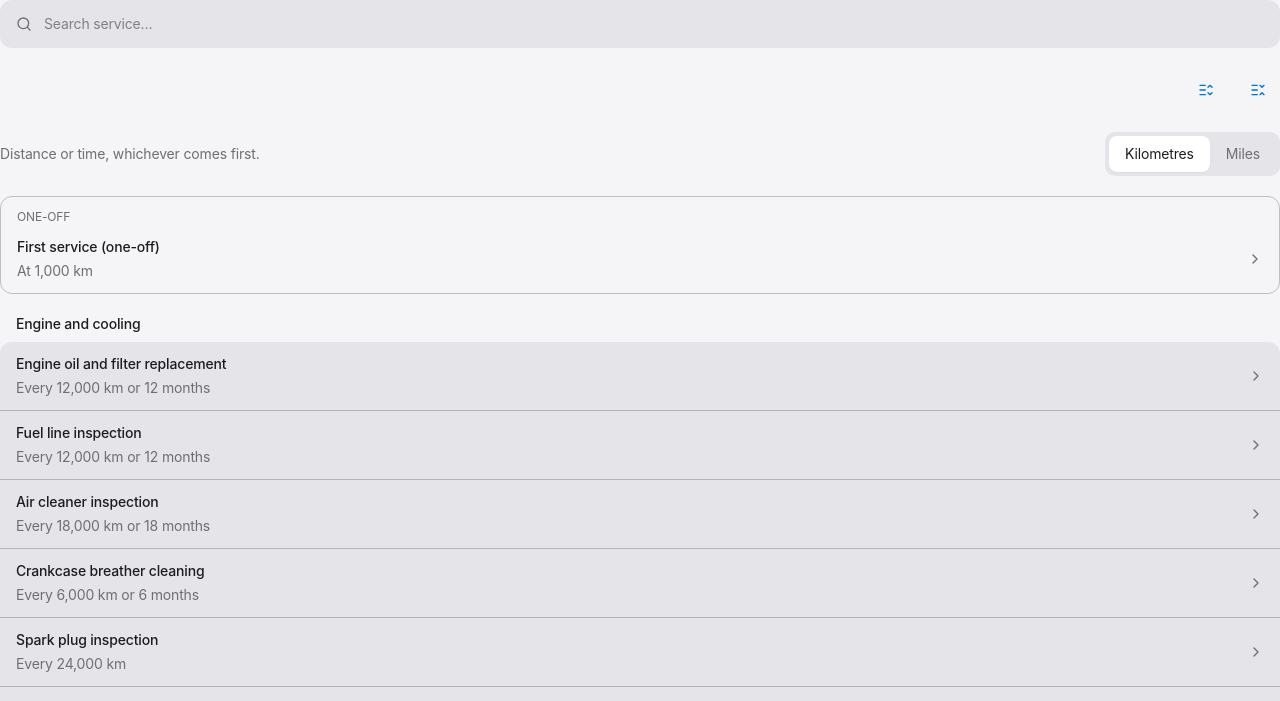
it: CB1000R reference › finds service details and retains fluids, torques and one-off timing
The width and height of the screenshot is (1280, 701).
Step 1. Type "oil and filter replacement" into the search field → (654, 24), box [44, 0, 1264, 48]
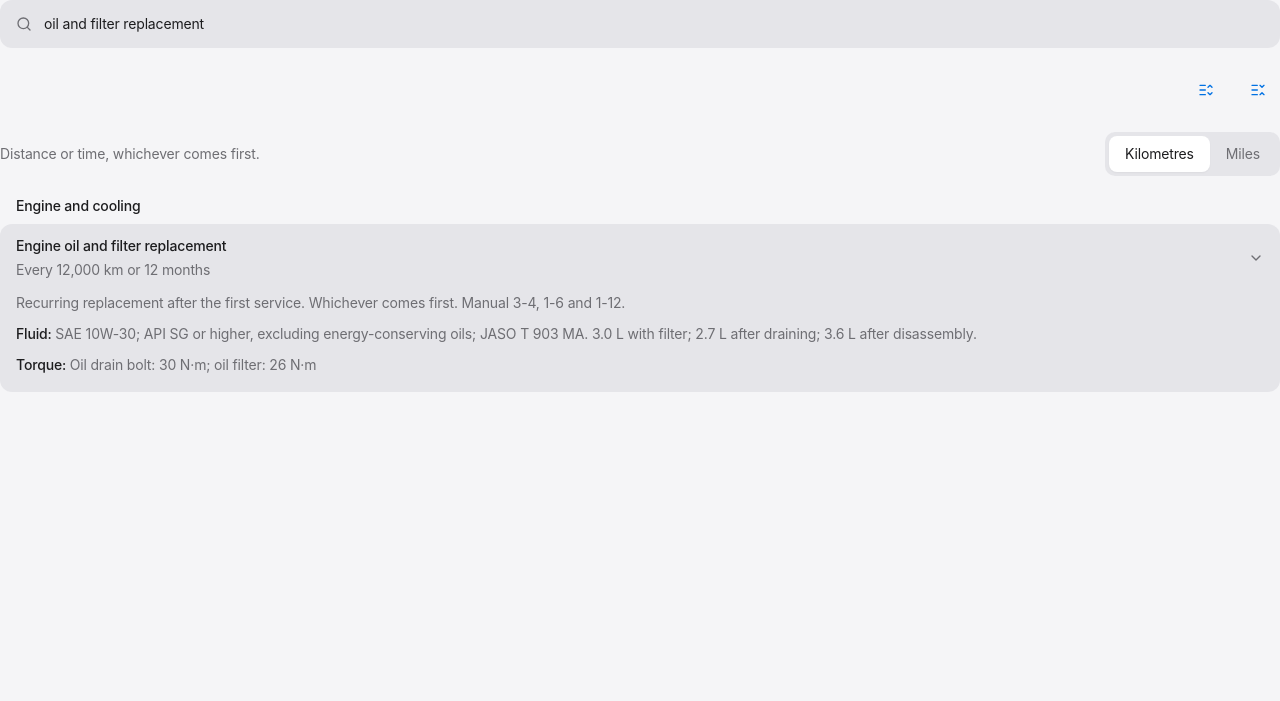
Expected: the text "Recurring replacement after the first service. Whichever comes first. Manual 3-4, 1-6 and 1-12." is shown, [16, 294, 625, 311]
Expected: the text "SAE 10W-30; API SG or higher, excluding energy-conserving oils; JASO T 903 MA. 3.0 L with filter; 2.7 L after draining; " is shown, [55, 325, 977, 342]
Expected: the text "Oil drain bolt: 30 N·m; oil filter: 26 N·m" is shown, [70, 356, 316, 372]
Step 2. Replace the text in the search field with "unfindable" → (654, 24), box [44, 0, 1264, 48]
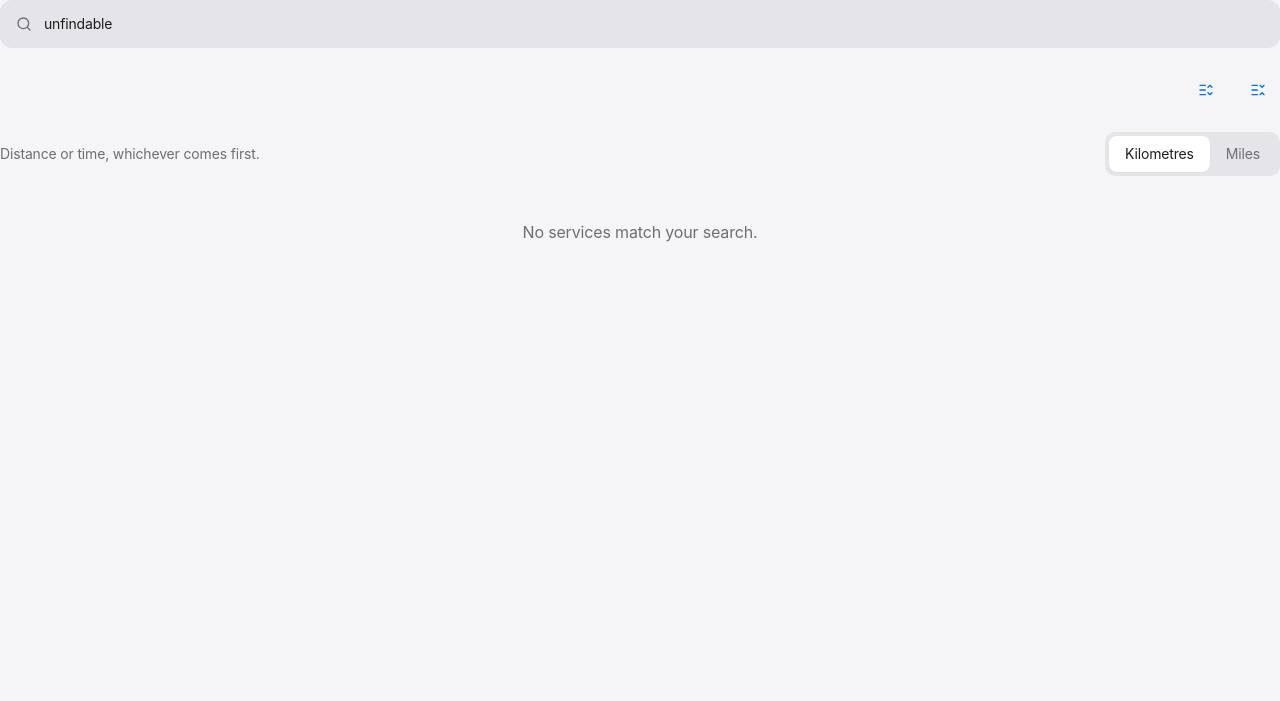
Expected: the message shows "No services", [522, 222, 758, 242]
Step 3. Replace the text in the search field with "mechanical qualifications" → (654, 24), box [44, 0, 1264, 48]
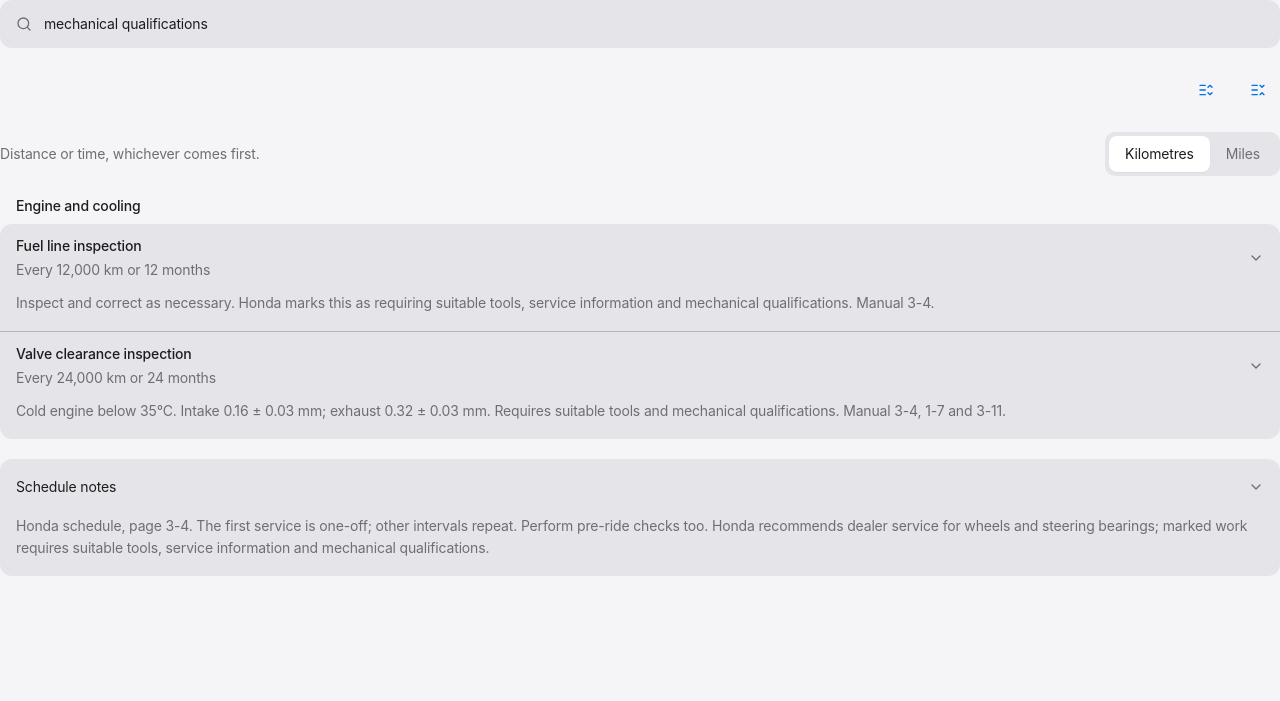
Expected: the message "No services match your search." is gone
